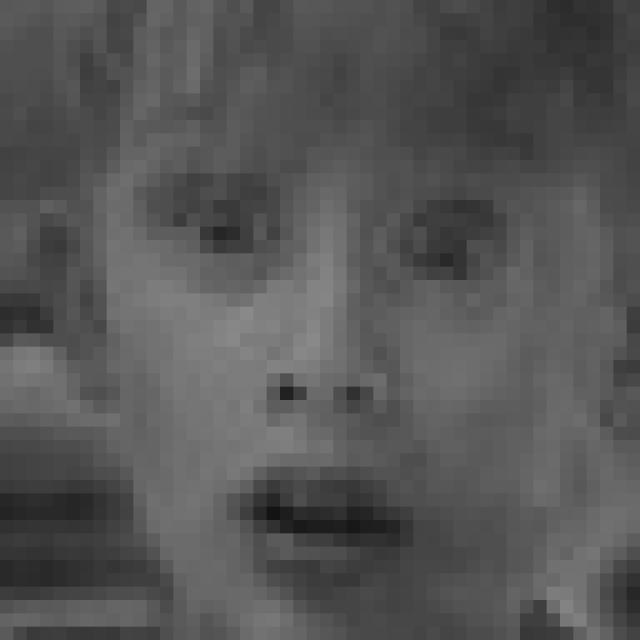surprise: (111, 96, 574, 585)
